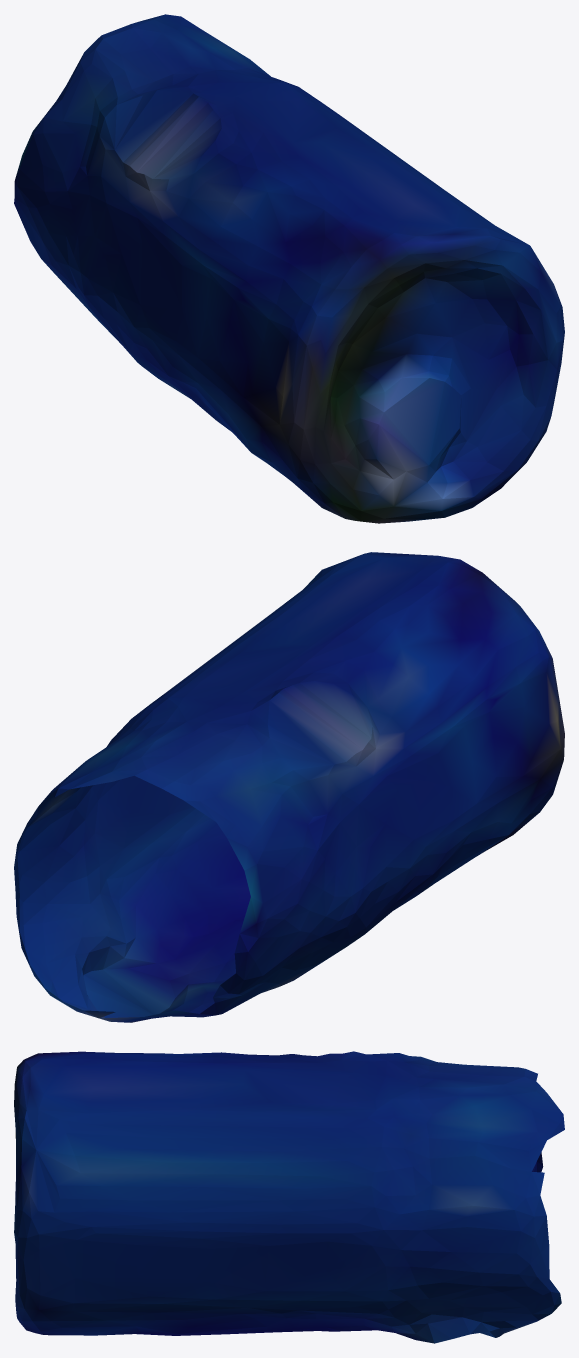
Rendered from scan.obj.
3 renders of one model, top to bottom at view 1: azimuth 30°, elevation 25°; view 2: azimuth 150°, elevation 25°; view 3: azimuth 270°, elevation 25°, orthographic. The views are drawn at different scales.
Visible parts, largest first — view 1: scan.ply; view 2: scan.ply; view 3: scan.ply.
Boxes of the visible parts, <box> form: scan.ply: <box>14,14,564,523</box>; scan.ply: <box>14,552,564,1022</box>; scan.ply: <box>14,1051,564,1343</box>.
Bounding box in the file's own units: 0.0163 × 0.0166 × 0.0329.
